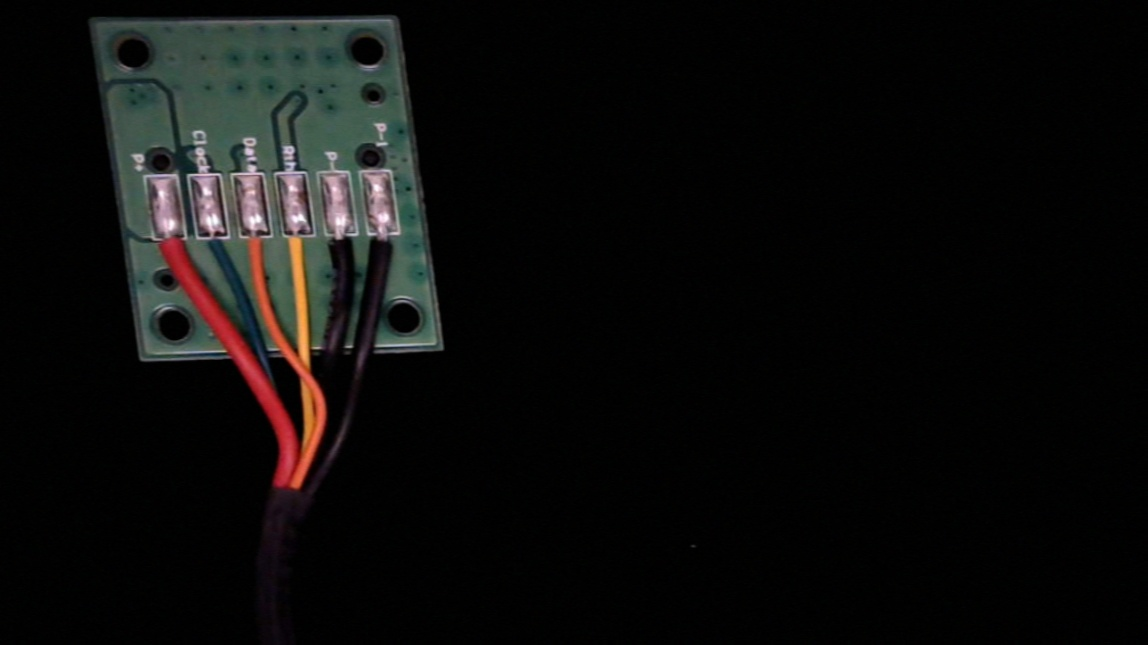Black: (322, 221, 365, 284)
Black1: (365, 220, 407, 287)
Green: (194, 222, 236, 282)
Orange: (238, 224, 280, 288)
Red: (151, 227, 196, 297)
Yellow: (278, 221, 320, 286)
